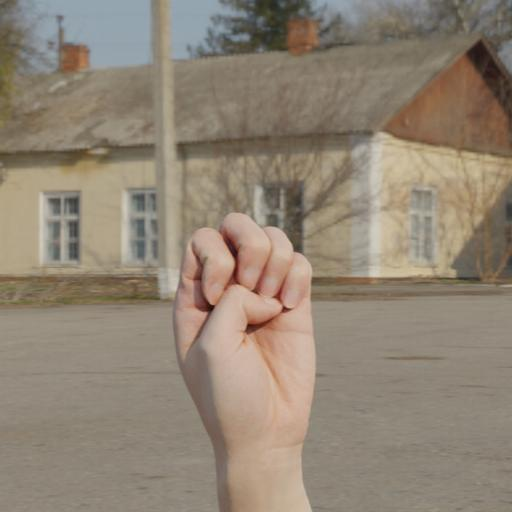E: (164, 193, 341, 442)
